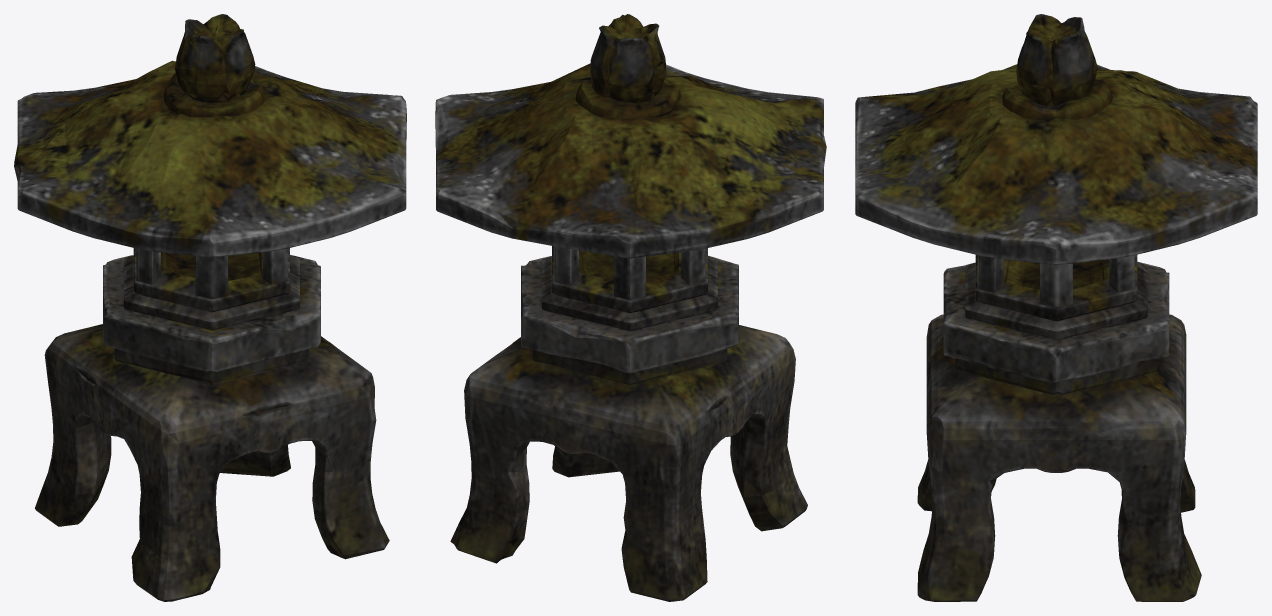
Rendered from SM_Haiti_Pagoda02.fbx.
3 views of the same model, side by side, from view 1: azimuth 30°, elevation 25°; view 2: azimuth 150°, elevation 25°; view 3: azimuth 270°, elevation 25° (orthographic). The views are drawn at different scales.
Parts seen in each view (by area): view 1: SM_Haiti_Pagoda02.mo; view 2: SM_Haiti_Pagoda02.mo; view 3: SM_Haiti_Pagoda02.mo.
Boxes of the visible parts, bbox=[...] form: SM_Haiti_Pagoda02.mo: bbox=[14, 14, 406, 601]; SM_Haiti_Pagoda02.mo: bbox=[435, 14, 826, 601]; SM_Haiti_Pagoda02.mo: bbox=[855, 14, 1257, 601].
Bounding box in the file's own units: 132 × 164 × 114.
